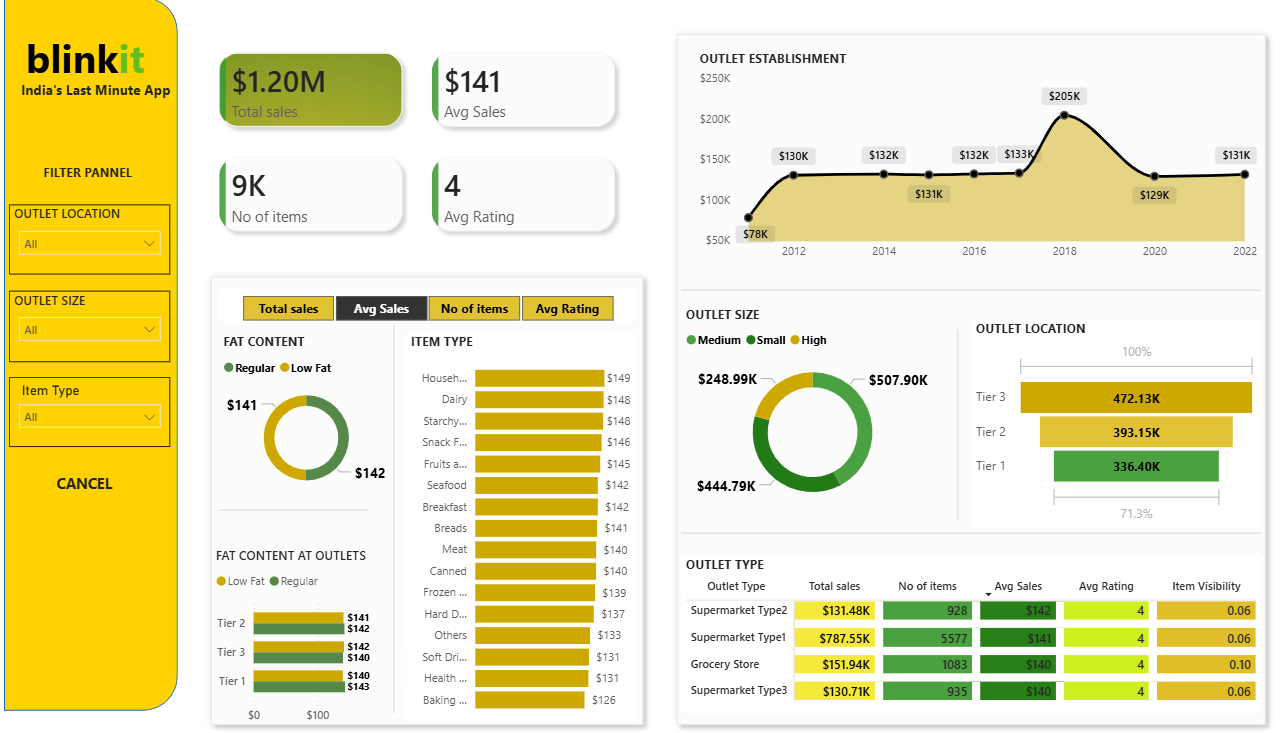

This screenshot's page, from the dashboard's own definition file:
{"tool":"powerbi","page":{"name":"Page 1","canvas":[1400,800],"ordinal":0},"visuals":[{"type":"shape","box":[5.4,0,188.9,775.8],"z":0},{"type":"textbox","box":[24,31.5,154.6,69],"z":1000},{"type":"textbox","box":[10.9,85.6,188.9,29.9],"z":2000},{"type":"cardVisual","fields":{"Data":["BlinkIT Grocery Data.Total sales","BlinkIT Grocery Data.Avg Sales","BlinkIT Grocery Data.No of rows","BlinkIT Grocery Data.Avg Rating"]},"box":[210.6,31.3,489.1,252.7],"z":3000},{"type":"shape","box":[221.5,294.8,487.8,505.4],"z":4000},{"type":"slicer","fields":{"Values":["metrics.metrics"]},"box":[239.1,317.9,452.4,35.3],"z":5000},{"type":"donutChart","title":"FAT CONTENT","fields":{"Y":["BlinkIT Grocery Data.Avg Sales"],"Category":["BlinkIT Grocery Data.Item Fat Content"]},"box":[239.1,365.5,190.2,182.1],"z":6000},{"type":"clusteredBarChart","title":"FAT CONTENT AT OUTLETS","fields":{"Y":["BlinkIT Grocery Data.Avg Sales"],"Category":["BlinkIT Grocery Data.Outlet Location Type"],"Series":["BlinkIT Grocery Data.Item Fat Content"]},"box":[231,597.8,190.2,201.1],"z":7000},{"type":"shape","box":[239.1,517.7,161.7,80.2],"z":8000},{"type":"shape","box":[421.2,356,16.3,422.6],"z":9000},{"type":"barChart","title":"ITEM TYPE","fields":{"Y":["BlinkIT Grocery Data.Avg Sales"],"Category":["BlinkIT Grocery Data.Item Type"]},"box":[442.9,365.5,248.6,422.6],"z":10000},{"type":"shape","box":[728.3,31.3,657.6,769],"z":11000},{"type":"lineChart","title":"OUTLET ESTABLISHMENT","fields":{"Category":["BlinkIT Grocery Data.Outlet Establishment Year"],"Y":["BlinkIT Grocery Data.Total sales"]},"box":[756.8,57.1,615.5,237.8],"z":12000},{"type":"shape","box":[741.9,301.6,630.4,34],"z":13000},{"type":"donutChart","title":"OUTLET SIZE","fields":{"Y":["BlinkIT Grocery Data.Total sales"],"Category":["BlinkIT Grocery Data.Outlet Size"]},"box":[741.9,335.6,285.3,229.6],"z":14000},{"type":"shape","box":[1027.2,361.4,29.9,206.5],"z":15000},{"type":"funnel","title":"OUTLET LOCATION","fields":{"Category":["BlinkIT Grocery Data.Outlet Location Type"],"Y":["Sum(BlinkIT Grocery Data.Sales)"]},"box":[1057.1,350.5,315.2,226.9],"z":16000},{"type":"shape","box":[741.9,567.9,630.4,29.9],"z":17000},{"type":"pivotTable","title":"OUTLET TYPE","fields":{"Rows":["BlinkIT Grocery Data.Outlet Type"],"Values":["BlinkIT Grocery Data.Total sales","BlinkIT Grocery Data.No of rows","BlinkIT Grocery Data.Avg Sales","BlinkIT Grocery Data.Avg Rating","Avg(BlinkIT Grocery Data.Item Visibility)"]},"box":[741.9,607.3,630.4,171.2],"z":18000},{"type":"slicer","title":"OUTLET LOCATION","fields":{"Values":["BlinkIT Grocery Data.Outlet Location Type"]},"box":[10.9,225.5,175.3,76.1],"z":19000},{"type":"slicer","title":"OUTLET SIZE","fields":{"Values":["BlinkIT Grocery Data.Outlet Size"]},"box":[10.9,319.3,175.3,77.4],"z":20000},{"type":"slicer","fields":{"Values":["BlinkIT Grocery Data.Item Type"]},"box":[10.9,413,175.3,76.1],"z":21000},{"type":"actionButton","title":"CANCEL","box":[62.5,517.7,72,25.8],"z":22000},{"type":"textbox","box":[43.5,176.6,110.1,28.5],"z":23000}]}

Visuals, with their boxes in screenshot pixels (x1, y1, x2, y2), scaled from the page's 1400x800 canvas onto the 1282x733 screenshot:
shape: 5, 0, 178, 711
textbox: 22, 29, 164, 92
textbox: 10, 78, 183, 106
cardVisual - BlinkIT Grocery Data.Total sales x BlinkIT Grocery Data.Avg Sales: 193, 29, 641, 260
shape: 203, 270, 650, 732
slicer - metrics.metrics: 219, 291, 633, 324
"FAT CONTENT" donutChart: 219, 335, 393, 502
"FAT CONTENT AT OUTLETS" clusteredBarChart: 212, 548, 386, 732
shape: 219, 474, 367, 548
shape: 386, 326, 401, 713
"ITEM TYPE" barChart: 406, 335, 633, 722
shape: 667, 29, 1269, 732
"OUTLET ESTABLISHMENT" lineChart: 693, 52, 1257, 270
shape: 679, 276, 1257, 307
"OUTLET SIZE" donutChart: 679, 307, 941, 518
shape: 941, 331, 968, 520
"OUTLET LOCATION" funnel: 968, 321, 1257, 529
shape: 679, 520, 1257, 548
"OUTLET TYPE" pivotTable: 679, 556, 1257, 713
"OUTLET LOCATION" slicer: 10, 207, 171, 276
"OUTLET SIZE" slicer: 10, 293, 171, 363
slicer - BlinkIT Grocery Data.Item Type: 10, 378, 171, 448
"CANCEL" actionButton: 57, 474, 123, 498
textbox: 40, 162, 141, 188
